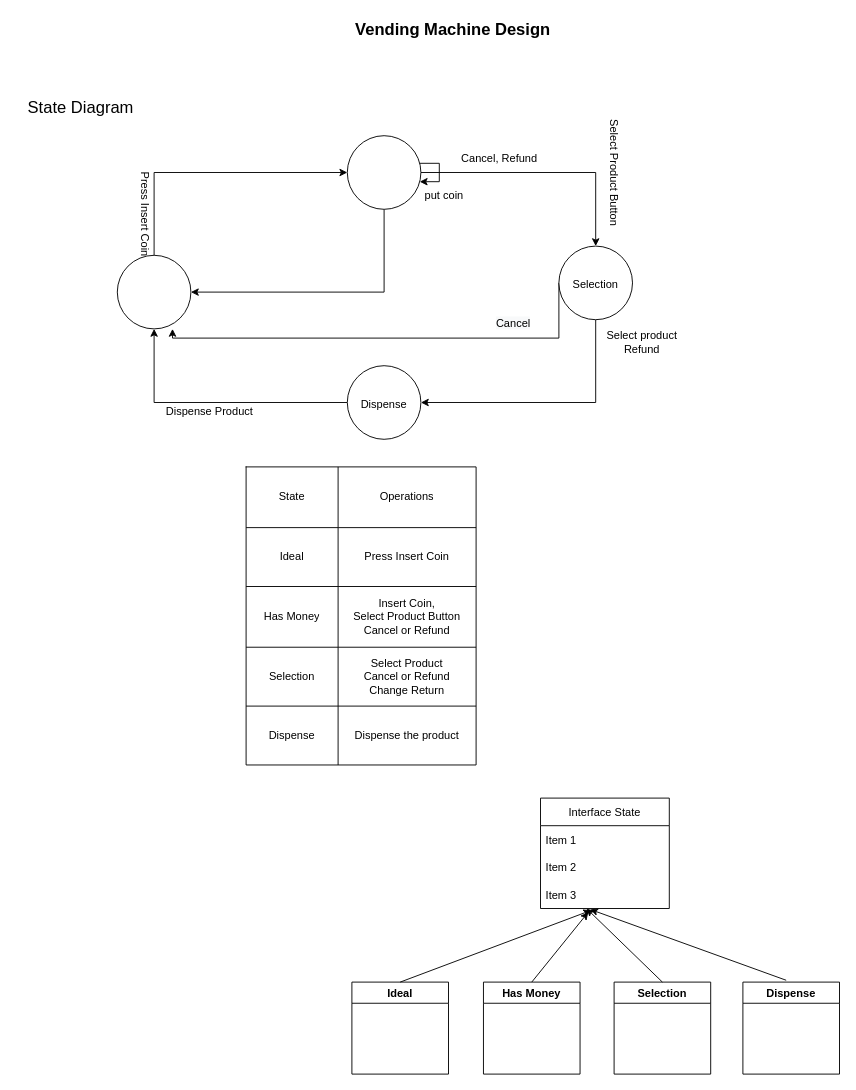
Image size: 856x1090. Some labels were removed from this diagram. The shapes that lost their labels are listed below. From the top down, each one's centre as x and y in pixels, then its label:
the point at 383,172: Has Money State
the point at 153,291: Ideal State
